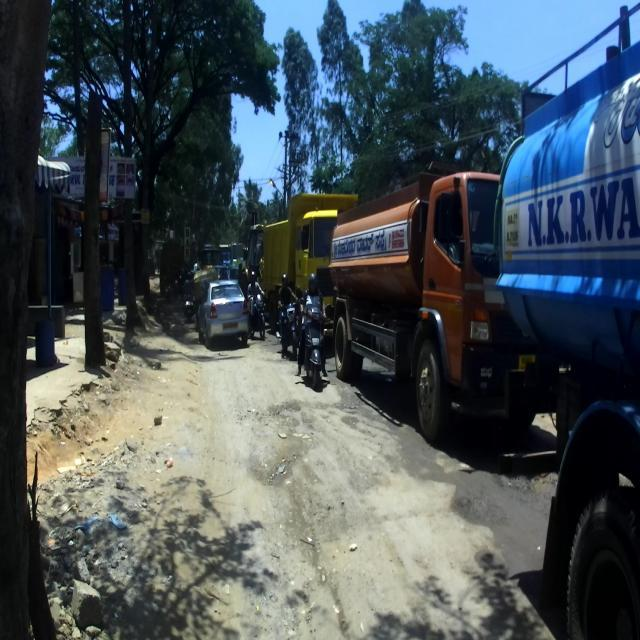pothole: (245, 401, 316, 488)
